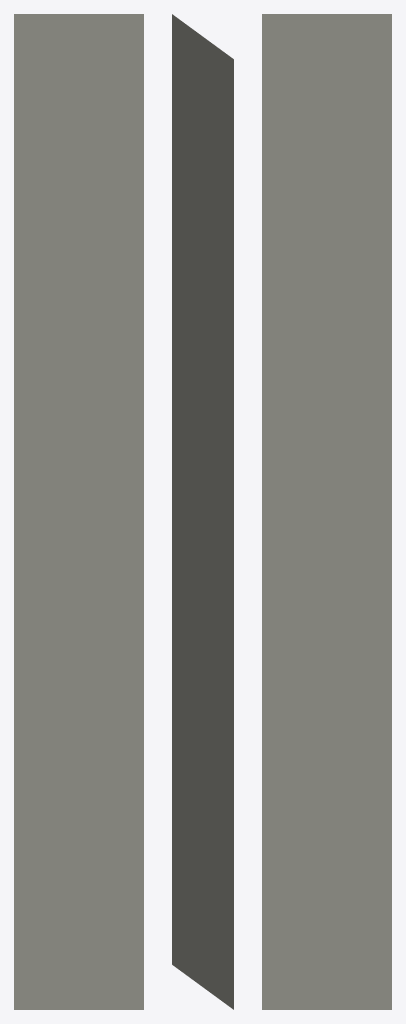
Rendered from A_axis_collider_6.glb.
The picture shows the model from 3 angles, left to right: view 1: azimuth 90°, elevation 25°; view 2: azimuth 210°, elevation 25°; view 3: azimuth 270°, elevation 25°; orthographic projection. The views are drawn at different scales.
Visible parts, largest first — view 1: A_axis_wall_collider.6; view 2: A_axis_wall_collider.6; view 3: A_axis_wall_collider.6.
Part boxes in pixels (box(x1,y1,x2,y2)): A_axis_wall_collider.6: box(14, 14, 143, 1009); A_axis_wall_collider.6: box(172, 14, 233, 1009); A_axis_wall_collider.6: box(262, 14, 391, 1009).
Size of the model in its own units: 0 by 5.81 by 0.6851.
1 material, 1 textured.
